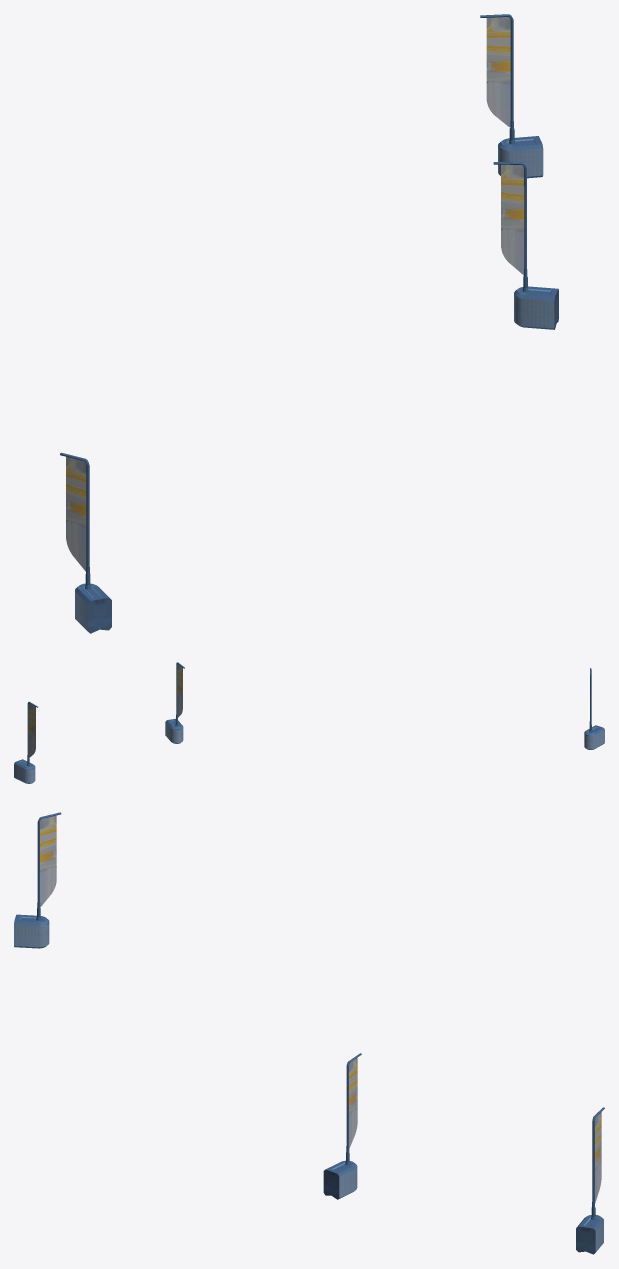
The model's file is pref_sm_beach_winter_flag01_lv3.fbx.
3 renders of one model, top to bottom at view 1: azimuth 30°, elevation 25°; view 2: azimuth 150°, elevation 25°; view 3: azimuth 270°, elevation 25°, orthographic. The views are drawn at different scales.
Visible parts, largest first — view 1: pref_sm_beach_winter_flag01_lv3; view 2: pref_sm_beach_winter_flag01_lv3; view 3: pref_sm_beach_winter_flag01_lv3.
Boxes of the visible parts, x1=… form: pref_sm_beach_winter_flag01_lv3: x1=60, y1=14, x2=558, y2=633; pref_sm_beach_winter_flag01_lv3: x1=14, y1=662, x2=604, y2=783; pref_sm_beach_winter_flag01_lv3: x1=14, y1=812, x2=604, y2=1254.
Size of the model in its own units: 36.92 by 6.95 by 29.22.
